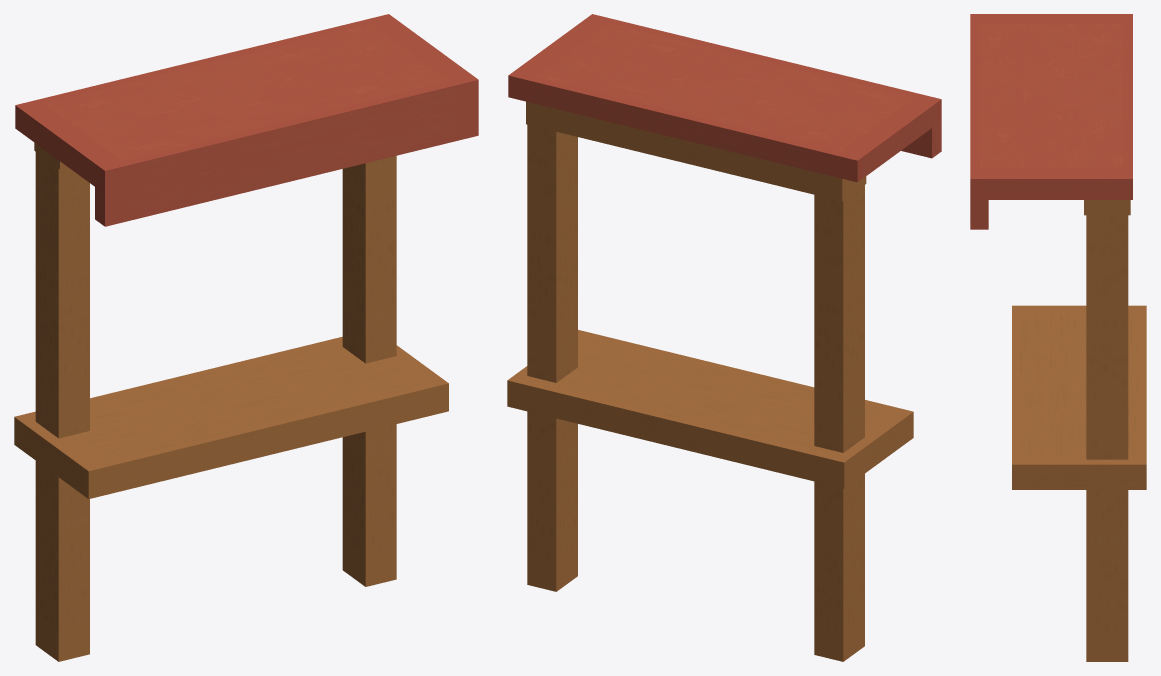
Rendered from serving_hatch.obj.
The picture shows the model from 3 angles, left to right: view 1: azimuth 30°, elevation 25°; view 2: azimuth 150°, elevation 25°; view 3: azimuth 270°, elevation 25°; orthographic projection. The views are drawn at different scales.
Parts seen in each view (by area): view 1: awning, sill, left_post, right_post, awning_edge; view 2: awning, sill, left_post, right_post, header, awning_edge; view 3: awning, sill, right_post, header, awning_edge.
Part boxes in pixels (left/top/right/bottom): awning: left=15, top=14, right=478, bottom=193; sill: left=14, top=336, right=448, bottom=498; left_post: left=35, top=144, right=89, bottom=661; right_post: left=342, top=155, right=396, bottom=586; awning_edge: left=95, top=98, right=478, bottom=226; awning: left=508, top=14, right=941, bottom=182; sill: left=507, top=330, right=913, bottom=488; left_post: left=814, top=177, right=864, bottom=661; right_post: left=527, top=124, right=577, bottom=591; header: left=526, top=101, right=866, bottom=201; awning_edge: left=901, top=119, right=941, bottom=158; awning: left=970, top=14, right=1132, bottom=199; sill: left=1012, top=305, right=1146, bottom=489; right_post: left=1086, top=200, right=1128, bottom=661; header: left=1084, top=200, right=1130, bottom=215; awning_edge: left=970, top=200, right=988, bottom=229.
Size of the model in its own units: 1.68 by 2.33 by 0.76.
2 materials, 2 textured.
